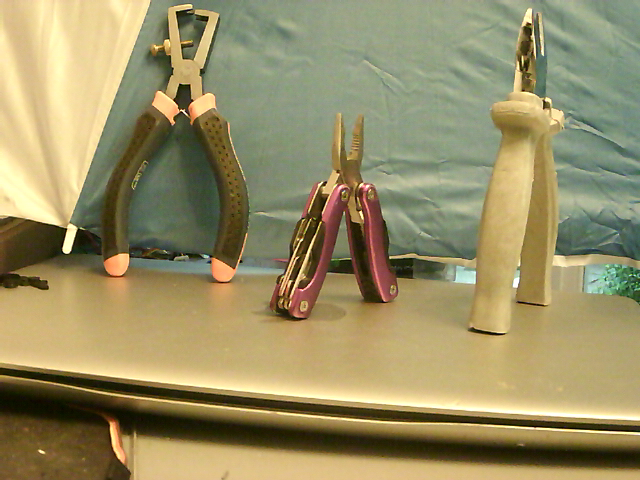pliers: (461, 3, 566, 339), (268, 108, 402, 326)
